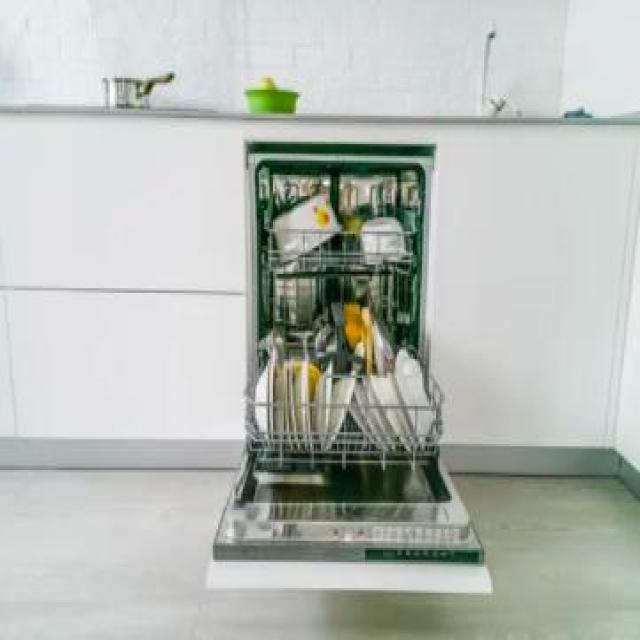dishwasher: (200, 134, 491, 590)
